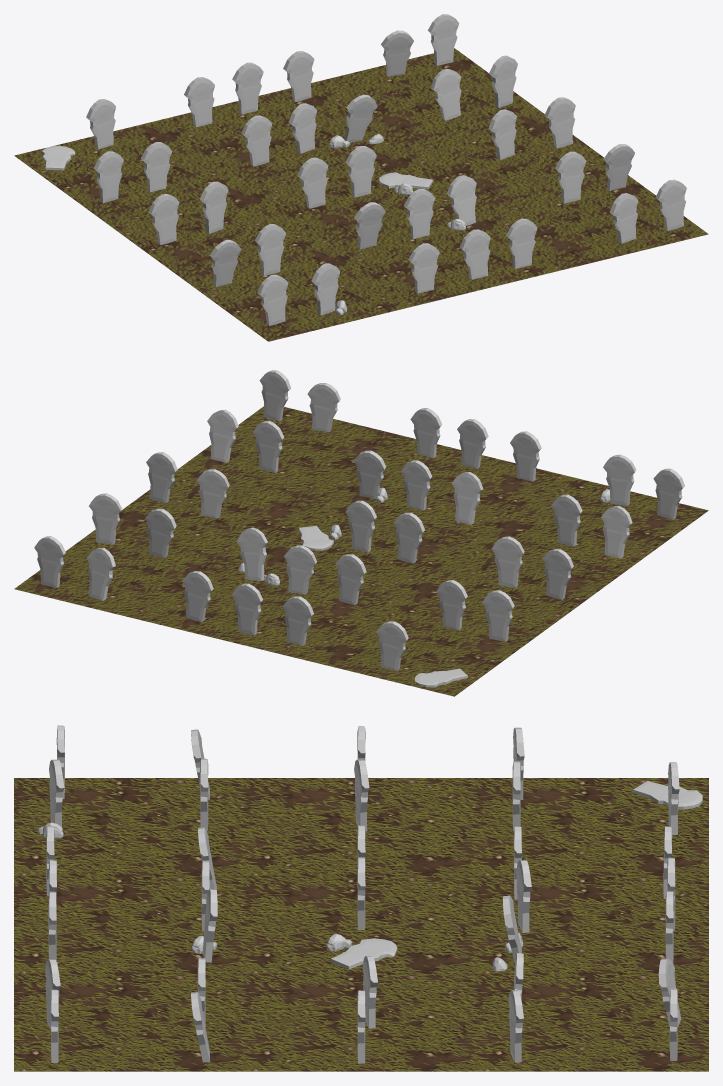
The model's file is Edge_Diorama_4.fbx.
The picture shows the model from 3 angles, top to bottom: view 1: azimuth 30°, elevation 25°; view 2: azimuth 150°, elevation 25°; view 3: azimuth 270°, elevation 25°; orthographic projection. The views are drawn at different scales.
Parts seen in each view (by area): view 1: Floor028; view 2: Floor028; view 3: Floor028.
Part boxes in pixels (left/top/right/bottom): Floor028: left=14, top=14, right=708, bottom=341; Floor028: left=14, top=370, right=708, bottom=696; Floor028: left=14, top=725, right=708, bottom=1071.
Bounding box in the file's own units: 450 × 49.85 × 450.
